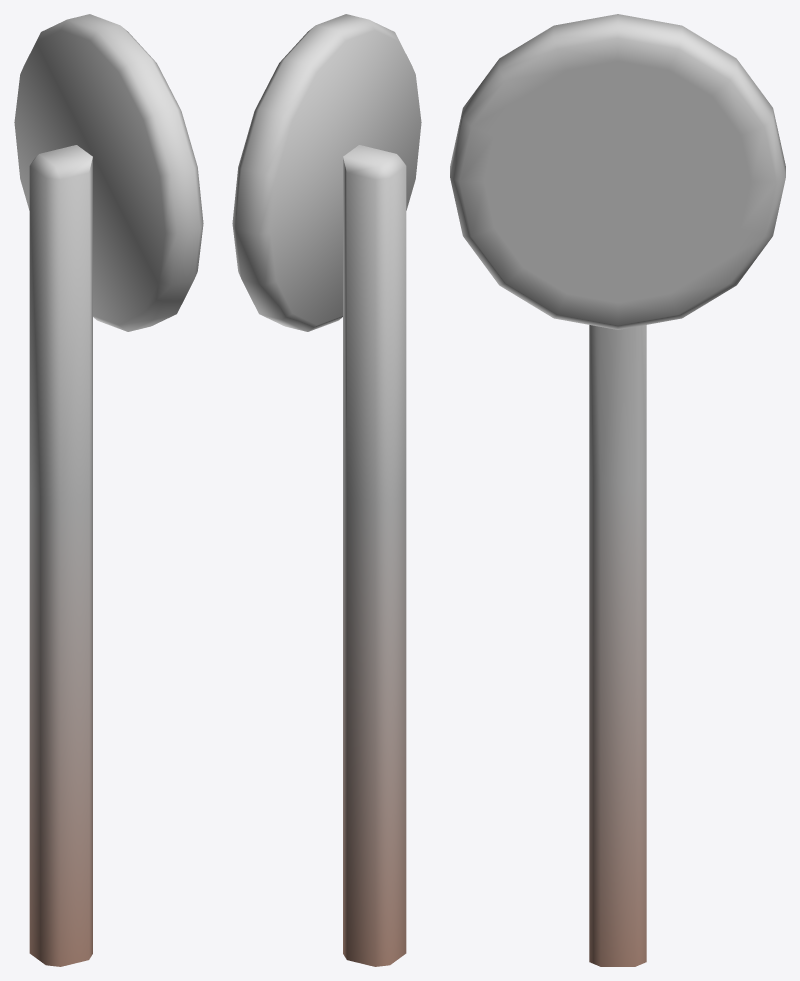
Rendered from NF_Env_Road Sign 03.fbx.
3 renders of one model, left to right at view 1: azimuth 30°, elevation 25°; view 2: azimuth 150°, elevation 25°; view 3: azimuth 270°, elevation 25°, orthographic. The views are drawn at different scales.
Parts seen in each view (by area): view 1: Sign 3; view 2: Sign 3; view 3: Sign 3.
Part boxes in pixels (x1,y1,x2,y2): Sign 3: (14,14,203,966); Sign 3: (232,14,421,966); Sign 3: (450,14,785,966).
Bounding box in the file's own units: 0.3836 × 3.71 × 1.18.
